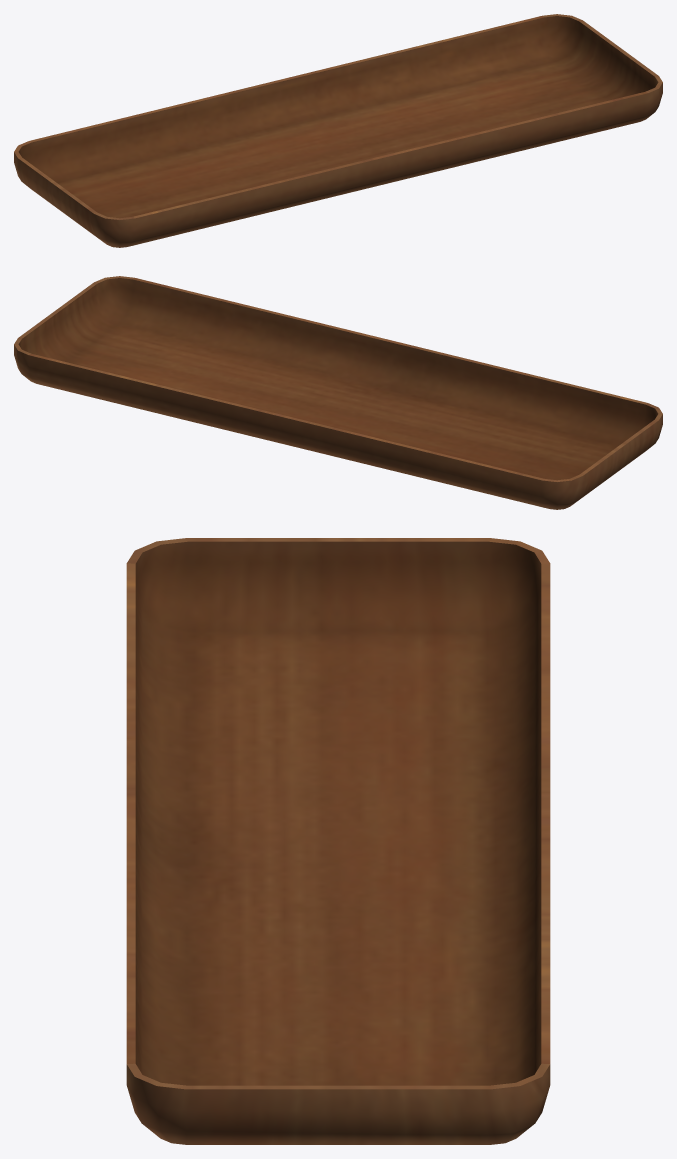
File: GardenTableWear01_10.FBX
3 views of the same model, one above another, from view 1: azimuth 30°, elevation 25°; view 2: azimuth 150°, elevation 25°; view 3: azimuth 270°, elevation 25° (orthographic). The views are drawn at different scales.
Visible parts, largest first — view 1: GardenTableWear01_10; view 2: GardenTableWear01_10; view 3: GardenTableWear01_10.
Part boxes in pixels (x1,y1,x2,y2): GardenTableWear01_10: (14,14,662,247); GardenTableWear01_10: (14,276,662,509); GardenTableWear01_10: (126,538,550,1144).
Size of what is drawn, in the model's own units: 0.3911 by 0.0249 by 0.127.
